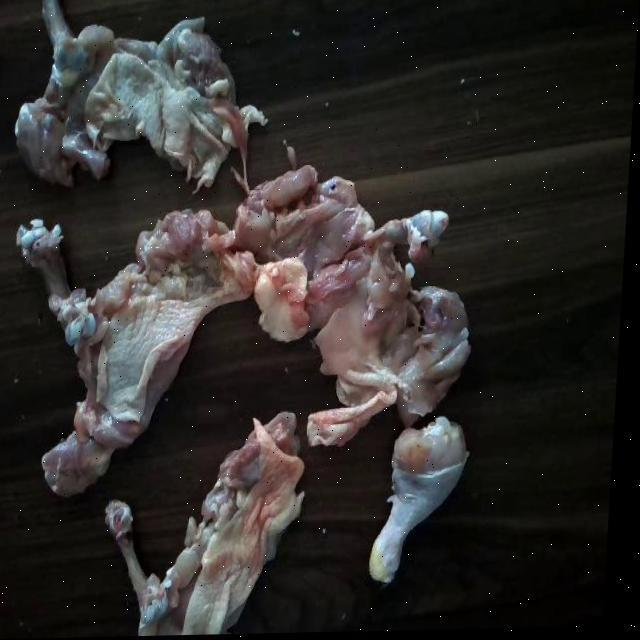leg: (378, 432, 476, 590)
